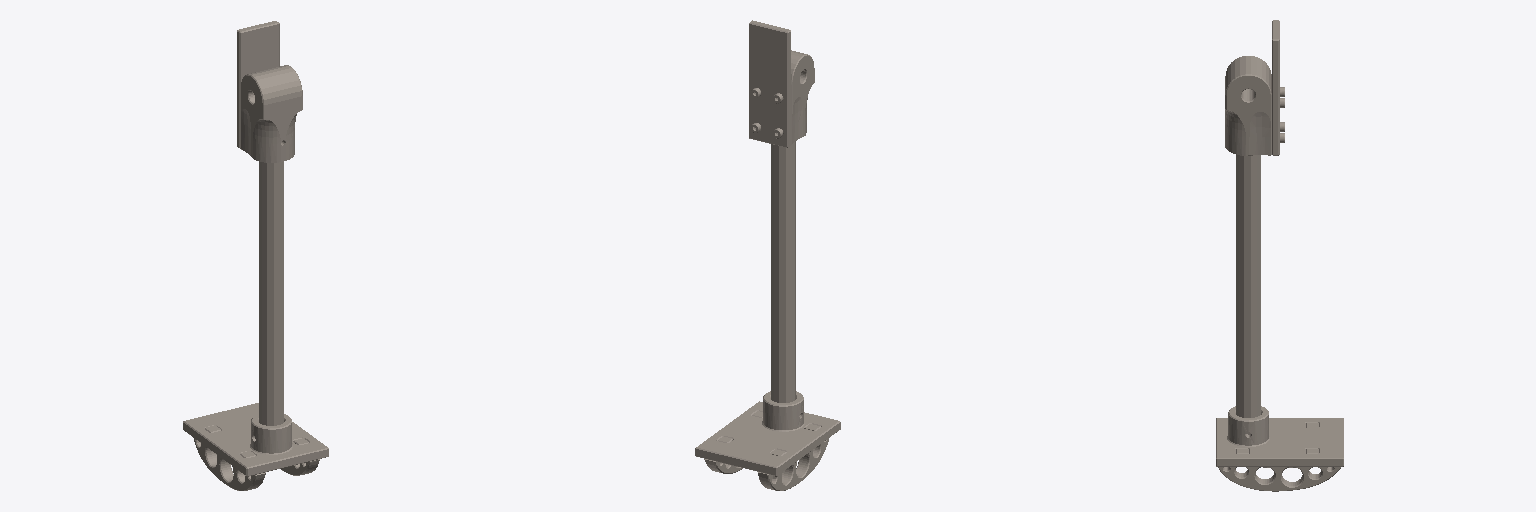
URDF robot description (erster_entwurf_export.SLDASM):
<?xml version="1.0" encoding="utf-8"?>
<!-- This URDF was automatically created by SolidWorks to URDF Exporter! Originally created by [author] ([email redacted]) 
     Commit Version: 1.6.0-4-g7f85cfe  Build Version: 1.6.7995.38578
     For more information, please see http://wiki.ros.org/sw_urdf_exporter -->
<robot
  name="erster_entwurf_export.SLDASM">
  <link
    name="base_link">
    <inertial>
      <origin
        xyz="0.00367736459403007 -0.0240523604206181 -0.197645815978139"
        rpy="0 0 0" />
      <mass
        value="0.267568794679023" />
      <inertia
        ixx="0.000172536697021039"
        ixy="-4.91450498876181E-10"
        ixz="-1.25412073222717E-10"
        iyy="0.000156796684086418"
        iyz="-2.42962094320955E-05"
        izz="3.42943685631157E-05" />
    </inertial>
    <visual>
      <origin
        xyz="0 0 0"
        rpy="0 0 0" />
      <geometry>
        <mesh
          filename="package://erster_entwurf_export.SLDASM/meshes/base_link.STL" />
      </geometry>
      <material
        name="">
        <color
          rgba="0.650980392156863 0.619607843137255 0.588235294117647 1" />
      </material>
    </visual>
    <collision>
      <origin
        xyz="0 0 0"
        rpy="0 0 0" />
      <geometry>
        <mesh
          filename="package://erster_entwurf_export.SLDASM/meshes/base_link.STL" />
      </geometry>
    </collision>
  </link>
  <link
    name="Thigh_Link_1">
    <inertial>
      <origin
        xyz="-0.130571792639433 0.0897317880581723 -0.119009694656217"
        rpy="0 0 0" />
      <mass
        value="0.25524656668112" />
      <inertia
        ixx="4.92561075499815E-05"
        ixy="7.26200548522277E-06"
        ixz="-2.45634074410601E-05"
        iyy="8.94373006181934E-05"
        iyz="7.285038495074E-06"
        izz="5.74145685002066E-05" />
    </inertial>
    <visual>
      <origin
        xyz="0 0 0"
        rpy="0 0 0" />
      <geometry>
        <mesh
          filename="package://erster_entwurf_export.SLDASM/meshes/Thigh_Link_1.STL" />
      </geometry>
      <material
        name="">
        <color
          rgba="0.650980392156863 0.619607843137255 0.588235294117647 1" />
      </material>
    </visual>
    <collision>
      <origin
        xyz="0 0 0"
        rpy="0 0 0" />
      <geometry>
        <mesh
          filename="package://erster_entwurf_export.SLDASM/meshes/Thigh_Link_1.STL" />
      </geometry>
    </collision>
  </link>
  <joint
    name="Thigh_Joint_1"
    type="fixed">
    <origin
      xyz="0.012077 -0.16327 -0.018706"
      rpy="1.2766 -0.2147 -0.75557" />
    <parent
      link="base_link" />
    <child
      link="Thigh_Link_1" />
    <axis
      xyz="0 0 0" />
  </joint>
  <link
    name="Legs_Connector_Link">
    <inertial>
      <origin
        xyz="0.1 0 1.73472347597681E-18"
        rpy="0 0 0" />
      <mass
        value="0.123307511449196" />
      <inertia
        ixx="1.54134389311495E-06"
        ixy="-1.19143916456915E-37"
        ixz="1.18119126616486E-37"
        iyy="0.000411795710110543"
        iyz="0"
        izz="0.000411795710110543" />
    </inertial>
    <visual>
      <origin
        xyz="0 0 0"
        rpy="0 0 0" />
      <geometry>
        <mesh
          filename="package://erster_entwurf_export.SLDASM/meshes/Legs_Connector_Link.STL" />
      </geometry>
      <material
        name="">
        <color
          rgba="0.650980392156863 0.619607843137255 0.588235294117647 1" />
      </material>
    </visual>
    <collision>
      <origin
        xyz="0 0 0"
        rpy="0 0 0" />
      <geometry>
        <mesh
          filename="package://erster_entwurf_export.SLDASM/meshes/Legs_Connector_Link.STL" />
      </geometry>
    </collision>
  </link>
  <joint
    name="Legs_Connector_Joint"
    type="fixed">
    <origin
      xyz="-0.10883 0.081679 -0.076595"
      rpy="0.40863 0.77709 0.070761" />
    <parent
      link="Thigh_Link_1" />
    <child
      link="Legs_Connector_Link" />
    <axis
      xyz="0 0 0" />
  </joint>
  <link
    name="Thigh_Link_2">
    <inertial>
      <origin
        xyz="-0.0971721774898985 0.00270615193922957 0.0319635960684162"
        rpy="0 0 0" />
      <mass
        value="0.255246557697921" />
      <inertia
        ixx="4.92561186430528E-05"
        ixy="7.26202829669101E-06"
        ixz="-2.45634047741869E-05"
        iyy="8.94372968719048E-05"
        iyz="7.28503529499963E-06"
        izz="5.74145815875823E-05" />
    </inertial>
    <visual>
      <origin
        xyz="0 0 0"
        rpy="0 0 0" />
      <geometry>
        <mesh
          filename="package://erster_entwurf_export.SLDASM/meshes/Thigh_Link_2.STL" />
      </geometry>
      <material
        name="">
        <color
          rgba="0.650980392156863 0.619607843137255 0.588235294117647 1" />
      </material>
    </visual>
    <collision>
      <origin
        xyz="0 0 0"
        rpy="0 0 0" />
      <geometry>
        <mesh
          filename="package://erster_entwurf_export.SLDASM/meshes/Thigh_Link_2.STL" />
      </geometry>
    </collision>
  </link>
  <joint
    name="Thigh_Joint_2"
    type="continuous">
    <origin
      xyz="0.093929 0 0"
      rpy="0.21718 -0.75848 2.9399" />
    <parent
      link="Legs_Connector_Link" />
    <child
      link="Thigh_Link_2" />
    <axis
      xyz="0.71117 0.050408 -0.70121" />
  </joint>
  <link
    name="Lower_Link">
    <inertial>
      <origin
        xyz="-0.0920683860007868 0.0638354883970177 0.0249863311514335"
        rpy="0 0 0" />
      <mass
        value="0.267567565599642" />
      <inertia
        ixx="0.000145970029728695"
        ixy="4.51635100328013E-05"
        ixz="-2.36970450841237E-05"
        iyy="6.64098811679096E-05"
        iyz="3.81765063528081E-05"
        izz="0.000151247677981681" />
    </inertial>
    <visual>
      <origin
        xyz="0 0 0"
        rpy="0 0 0" />
      <geometry>
        <mesh
          filename="package://erster_entwurf_export.SLDASM/meshes/Lower_Link.STL" />
      </geometry>
      <material
        name="">
        <color
          rgba="0.650980392156863 0.619607843137255 0.588235294117647 1" />
      </material>
    </visual>
    <collision>
      <origin
        xyz="0 0 0"
        rpy="0 0 0" />
      <geometry>
        <mesh
          filename="package://erster_entwurf_export.SLDASM/meshes/Lower_Link.STL" />
      </geometry>
    </collision>
  </link>
  <joint
    name="Lower_Joint"
    type="revolute">
    <origin
      xyz="-0.1015 0.020246 -0.080081"
      rpy="-0.21042 0.0069665 0.20747" />
    <parent
      link="Thigh_Link_2" />
    <child
      link="Lower_Link" />
    <axis
      xyz="0.71117 0.050408 -0.70121" />
    <limit
      lower="-1.0047"
      upper="0.56606"
      effort="0"
      velocity="0" />
  </joint>
</robot>

--- Render facts (derived) ---
Views: 3 orthographic renders of the robot side by side, from view 1: azimuth 30°, elevation 25°; view 2: azimuth 150°, elevation 25°; view 3: azimuth 270°, elevation 25°.
Robot: erster_entwurf_export.SLDASM — 5 links, 4 joints (1 revolute, 1 continuous, 2 fixed); root link base_link; default pose: all joints at 0.
Visible links, largest first — view 1: base_link; view 2: base_link; view 3: base_link.
Boxes of the visible links, left/top/right/bottom form: base_link: left=183, top=21, right=328, bottom=490; base_link: left=695, top=20, right=840, bottom=490; base_link: left=1216, top=20, right=1343, bottom=491.
Size in the robot's own frame: 0.037 by 0.0501 by 0.1928 metres.
Meshes: 5 distinct files referenced, 1 mesh visuals loaded (1 binary STL); not drawn: 4 (reference not matched to a file when rendering).